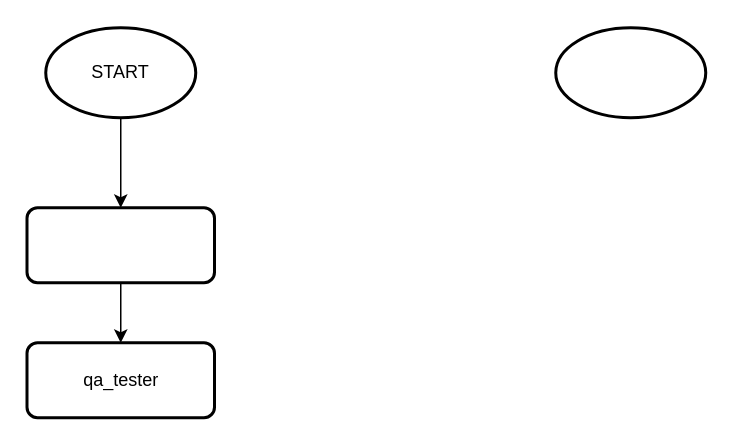
The diagram is 734 pixels wide and 444 high, and some of its shapes have lost their labels. The centre of each missing label's shape, as x and y in pixels:
"data_analyst_dev" belongs at point 120,245.
"END" belongs at point 630,72.
